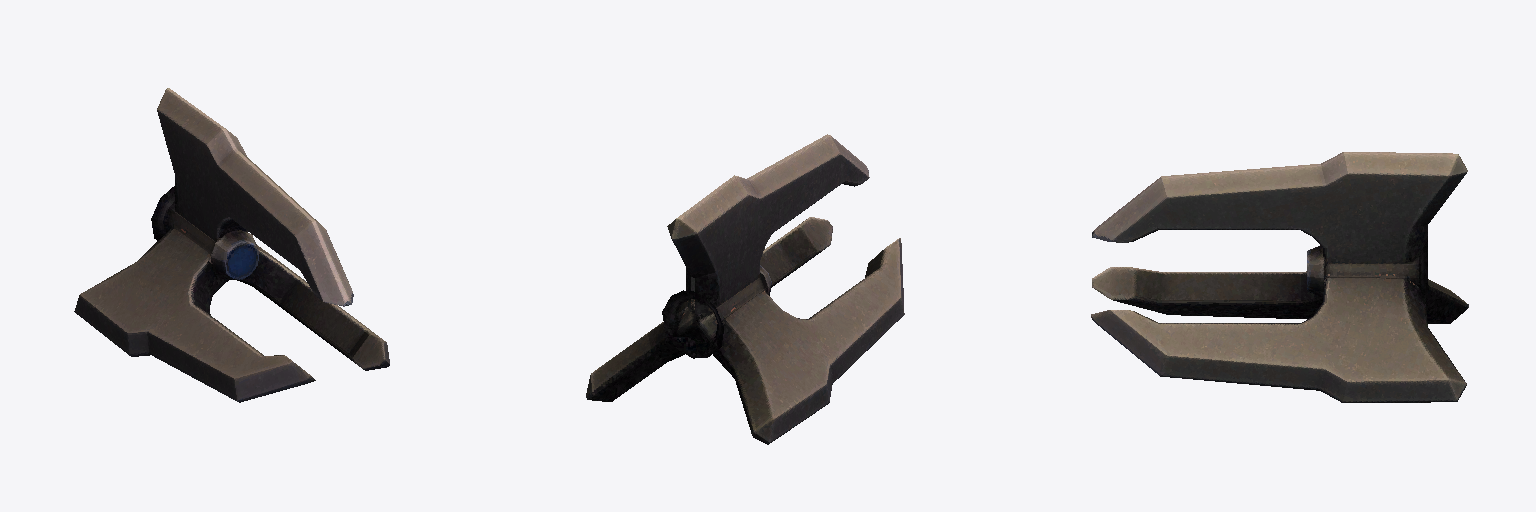
3 renders of one model, left to right at view 1: azimuth 30°, elevation 25°; view 2: azimuth 150°, elevation 25°; view 3: azimuth 270°, elevation 25°, orthographic.
Parts seen in each view (by area): view 1: canon; view 2: canon; view 3: canon.
Boxes of the visible parts, box(x1,y1,x2,y2) form: canon: box(74, 88, 389, 402); canon: box(586, 134, 904, 444); canon: box(1091, 152, 1468, 402).
Size of the model in its own units: 2.06 by 2.17 by 3.58.
1 materials, 1 textured.